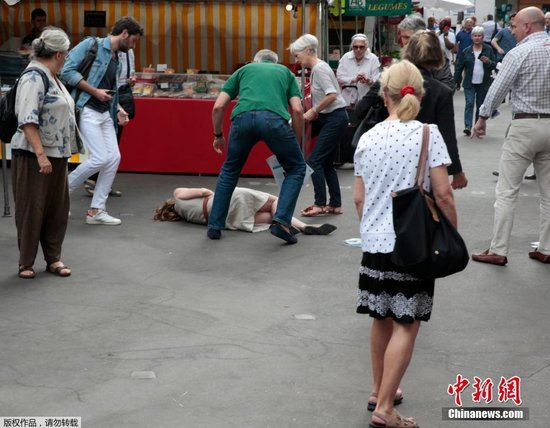10+: (1, 1, 550, 427)
down: (149, 186, 339, 248)
